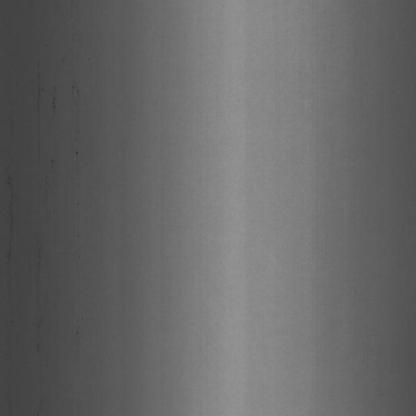inclusion: (72, 72, 85, 198), (48, 77, 58, 181)
water_spot: (31, 55, 44, 163)
